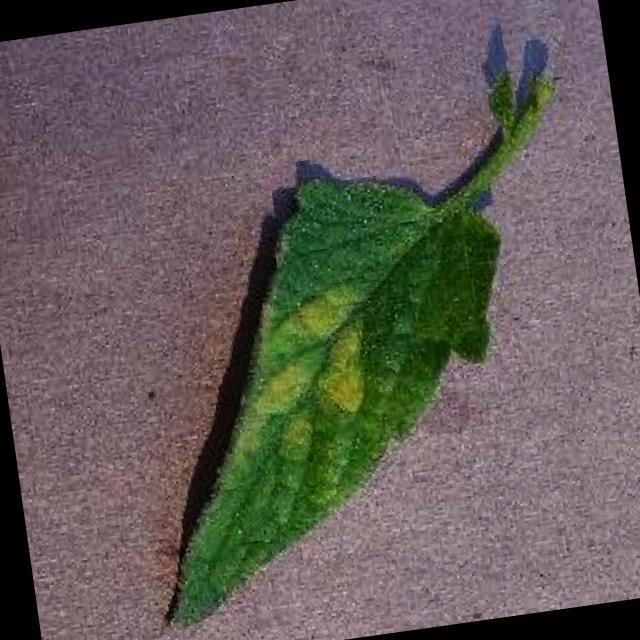Tomato mold leaf: (106, 152, 544, 638)
